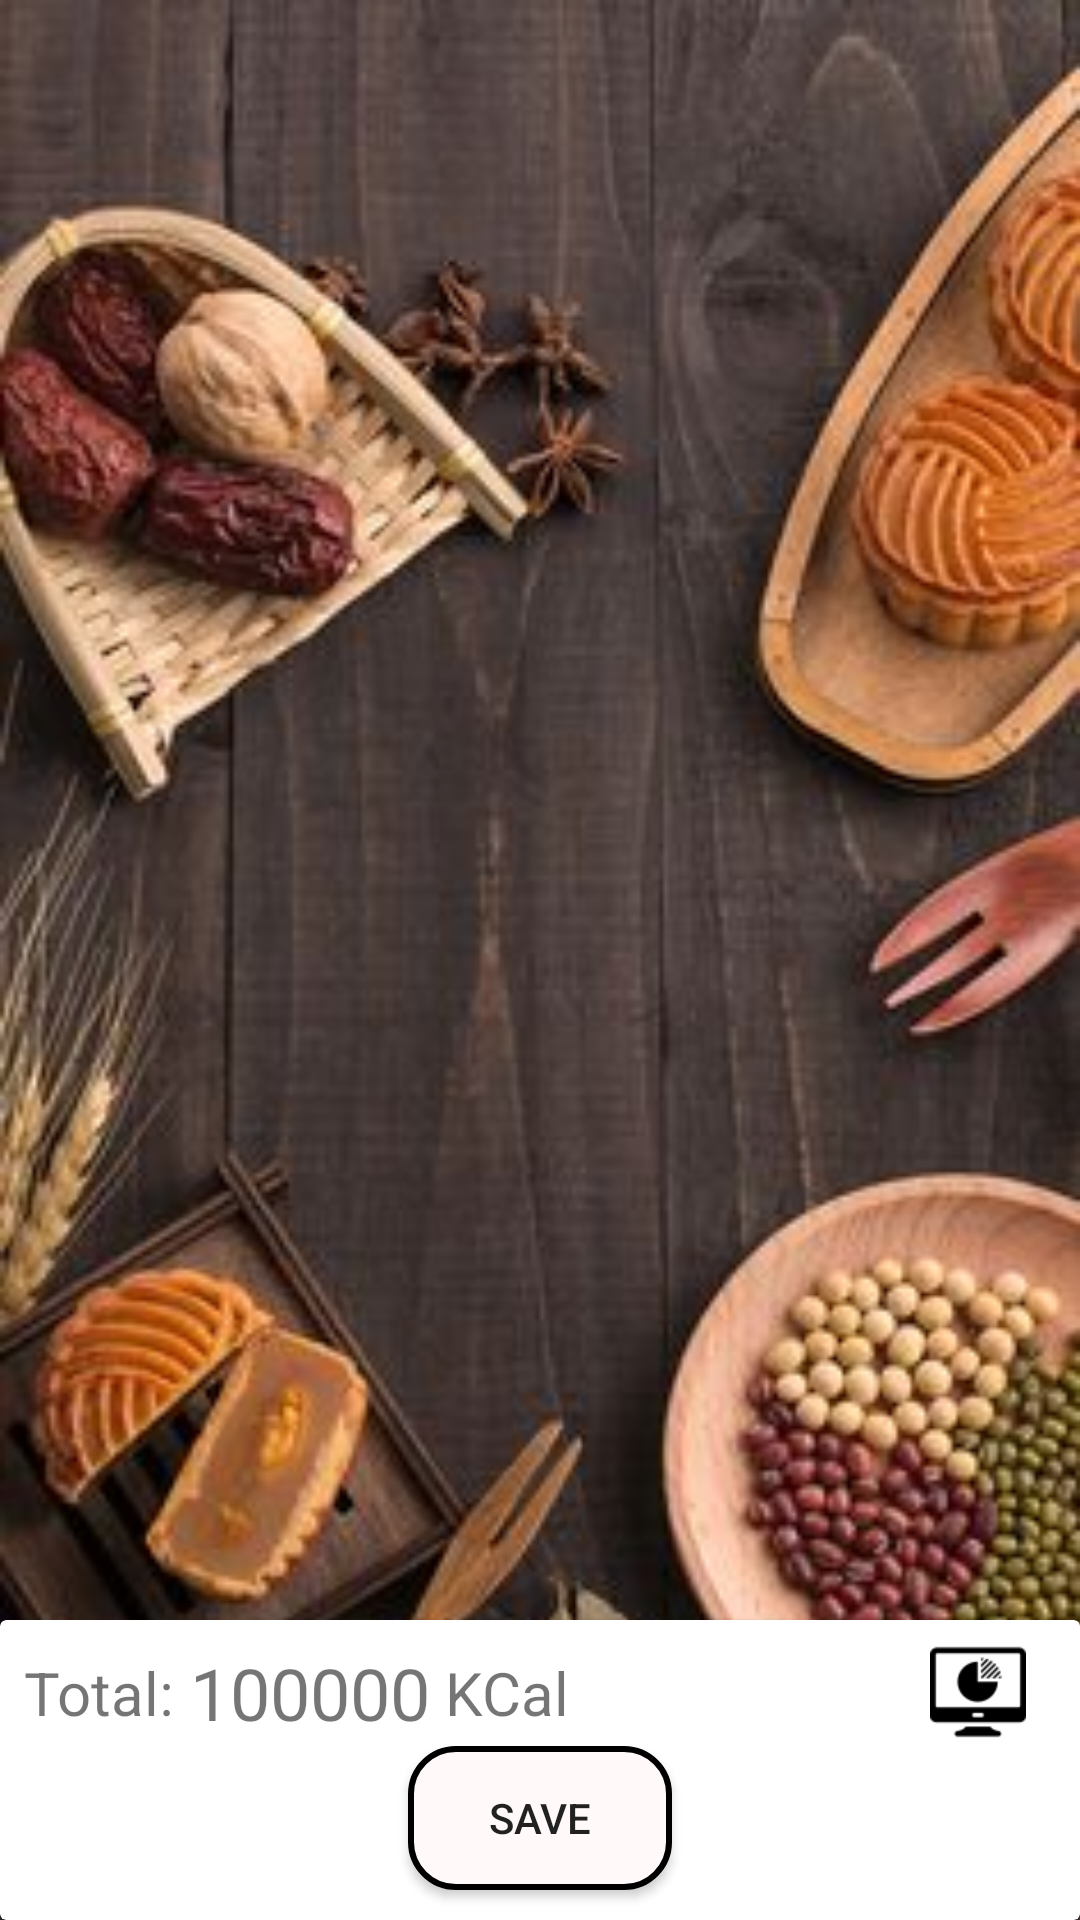

Icons on this 1080 x 1920 Android screen, each with the point to tap as (x=x, y=y):
piechart: (x=978, y=1692)
